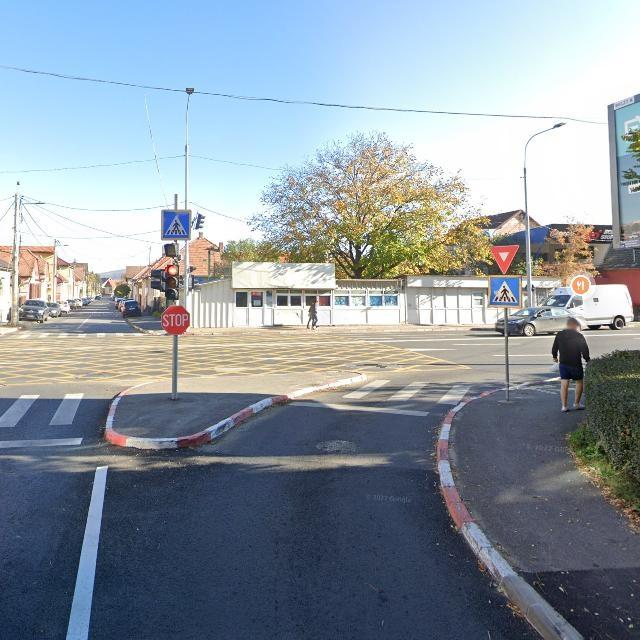info_crosswalk: (486, 275, 523, 307), (161, 207, 191, 241)
prio_give_way: (489, 243, 519, 274)
prio_stop: (161, 304, 190, 335)
